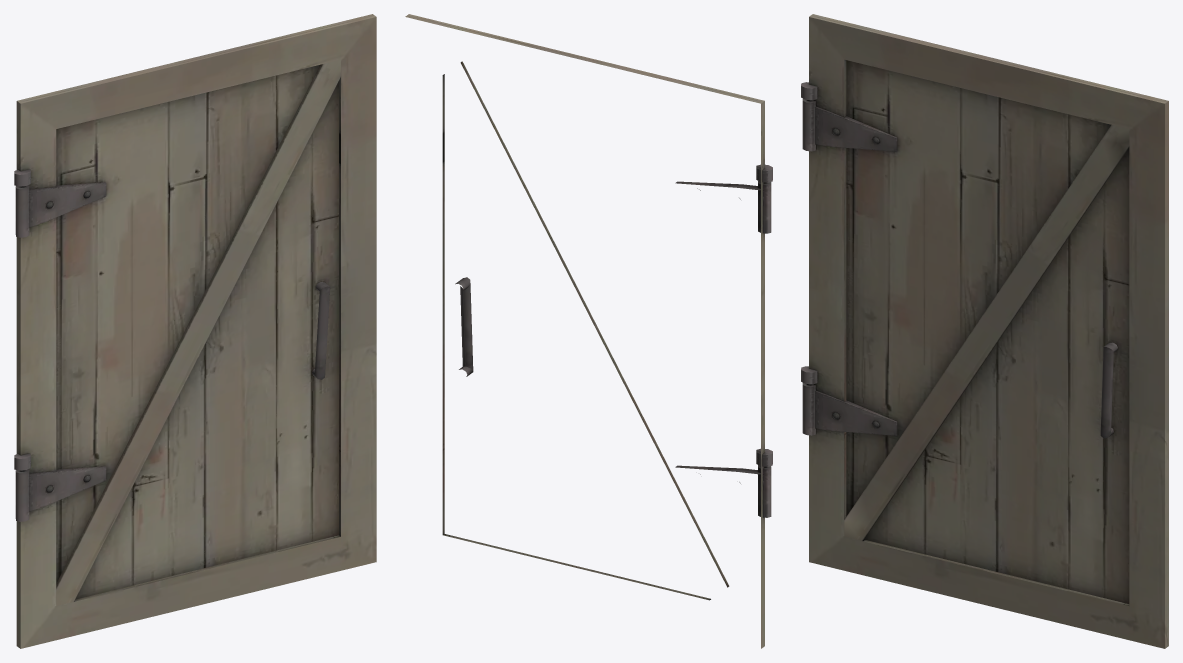
The picture shows the model from 3 angles, left to right: view 1: azimuth 30°, elevation 25°; view 2: azimuth 150°, elevation 25°; view 3: azimuth 330°, elevation 25°; orthographic projection.
Parts seen in each view (by area): view 1: body0_model0_lod0_mesh0; view 2: body0_model0_lod0_mesh0; view 3: body0_model0_lod0_mesh0.
Part boxes in pixels (x1,y1,x2,y2): body0_model0_lod0_mesh0: (14,14,376,648); body0_model0_lod0_mesh0: (405,14,772,648); body0_model0_lod0_mesh0: (801,14,1168,648).
Size of the model in its own units: 106 by 152 by 4.55.
Materials: 1 (1 with a texture image).
